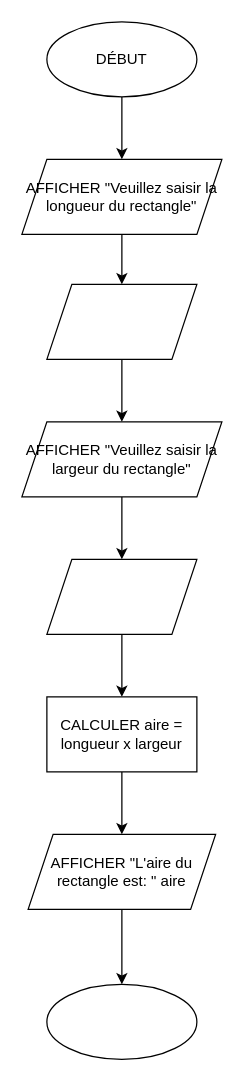
Some shapes in this 244 by 1081 pixel diagram are drawn without their labels. The centre of each missing label's shape, as x and y in pixels:
"FIN" belongs at point (121, 1021).
"LIRE largeur" belongs at point (121, 596).
"LIRE longueur" belongs at point (121, 321).
